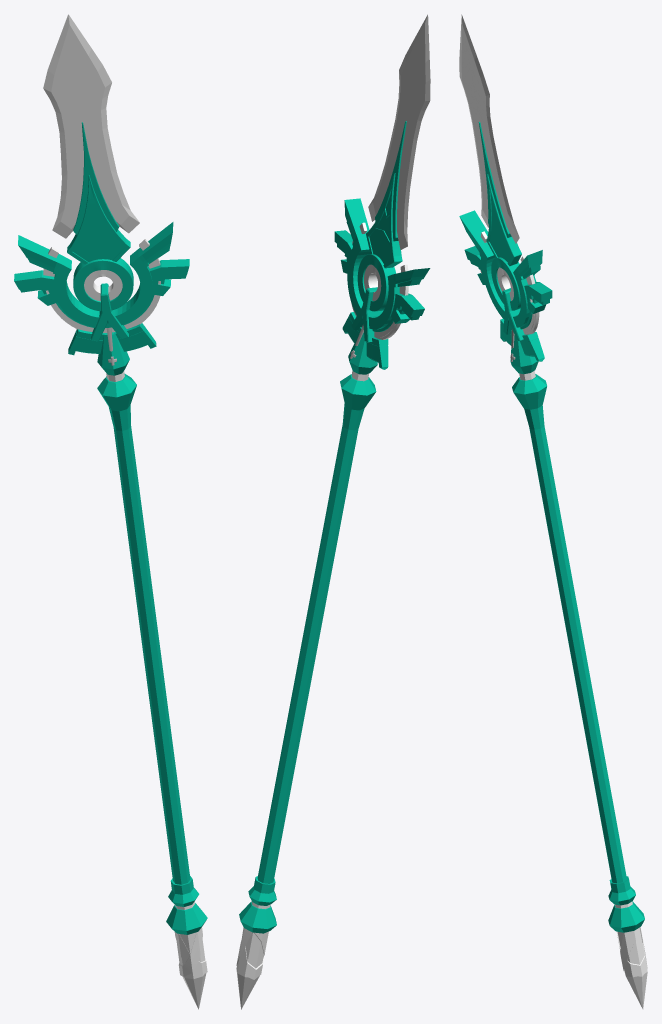
Rendered from lanza.glb.
3 renders of one model, left to right at view 1: azimuth 30°, elevation 25°; view 2: azimuth 150°, elevation 25°; view 3: azimuth 330°, elevation 25°, orthographic. The views are drawn at different scales.
Parts seen in each view (by area): view 1: polySurface13, polySurface18, polySurface14.001; view 2: polySurface13, polySurface18, polySurface14.001; view 3: polySurface13, polySurface18, polySurface14.001.
Part boxes in pixels (x1,y1,x2,y2): polySurface13: [14, 122, 207, 934]; polySurface18: [43, 14, 206, 1009]; polySurface14.001: [174, 927, 207, 976]; polySurface13: [239, 121, 430, 933]; polySurface18: [236, 14, 430, 1009]; polySurface14.001: [236, 927, 268, 979]; polySurface13: [459, 122, 644, 932]; polySurface18: [459, 14, 647, 1009]; polySurface14.001: [617, 927, 647, 976].
Bounding box in the file's own units: 0.7212 × 3.76 × 0.3696.
